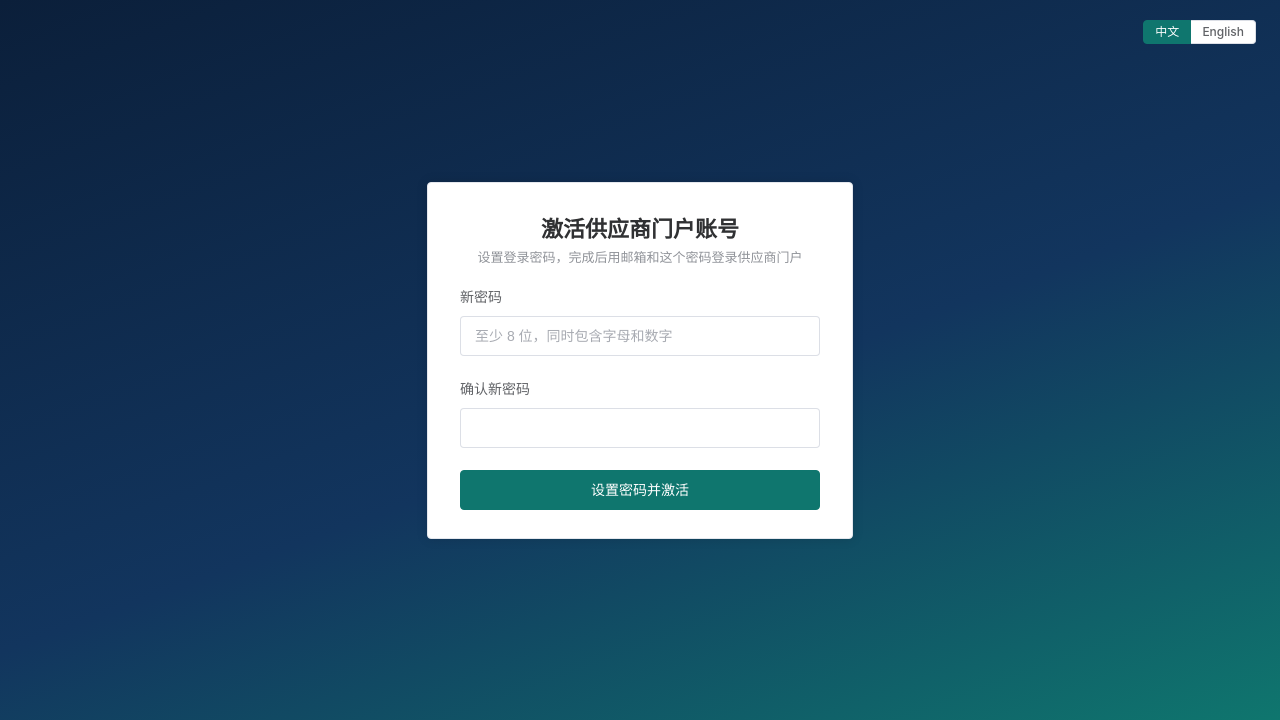
it: ActivatePage › R04-11 链接无效或过期时提示联系采购人员重新发送
Type "Portal2026" into the password field named "new-password" at {"x": 640, "y": 336}, box [475,316,805,354]
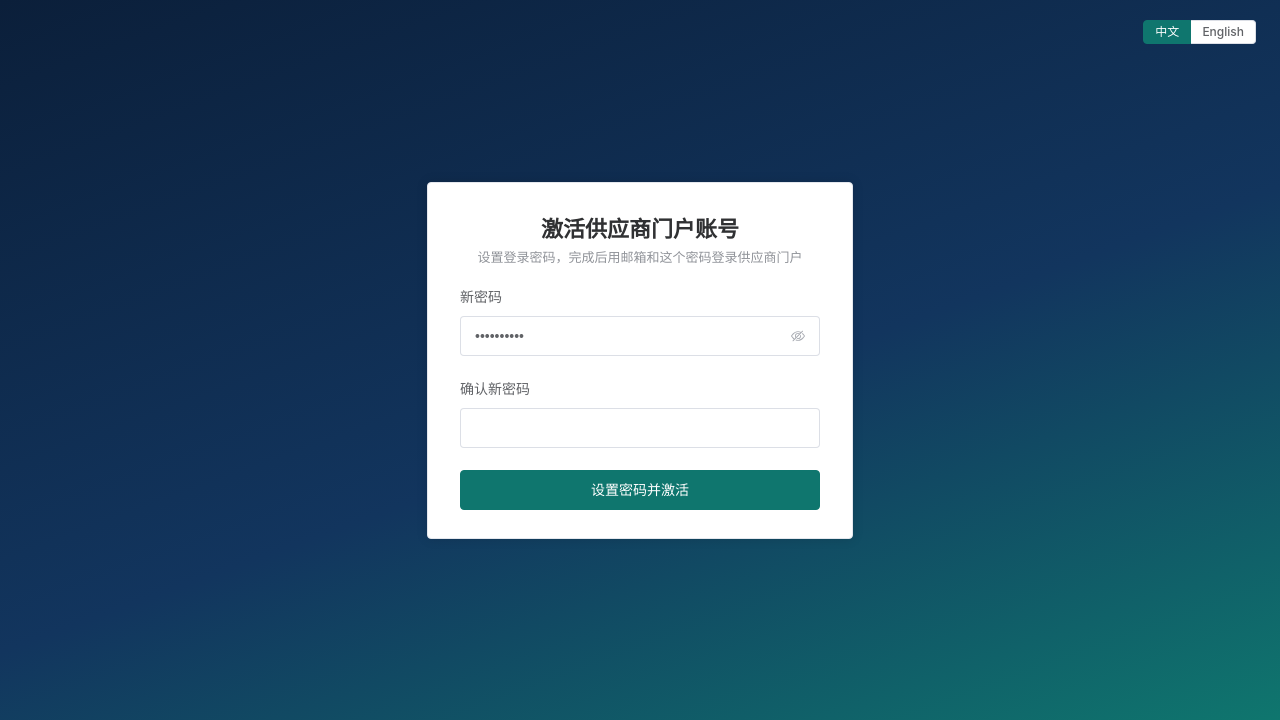
Type "Portal2026" into the password field named "confirm-password" at {"x": 640, "y": 428}, box [475,408,805,446]
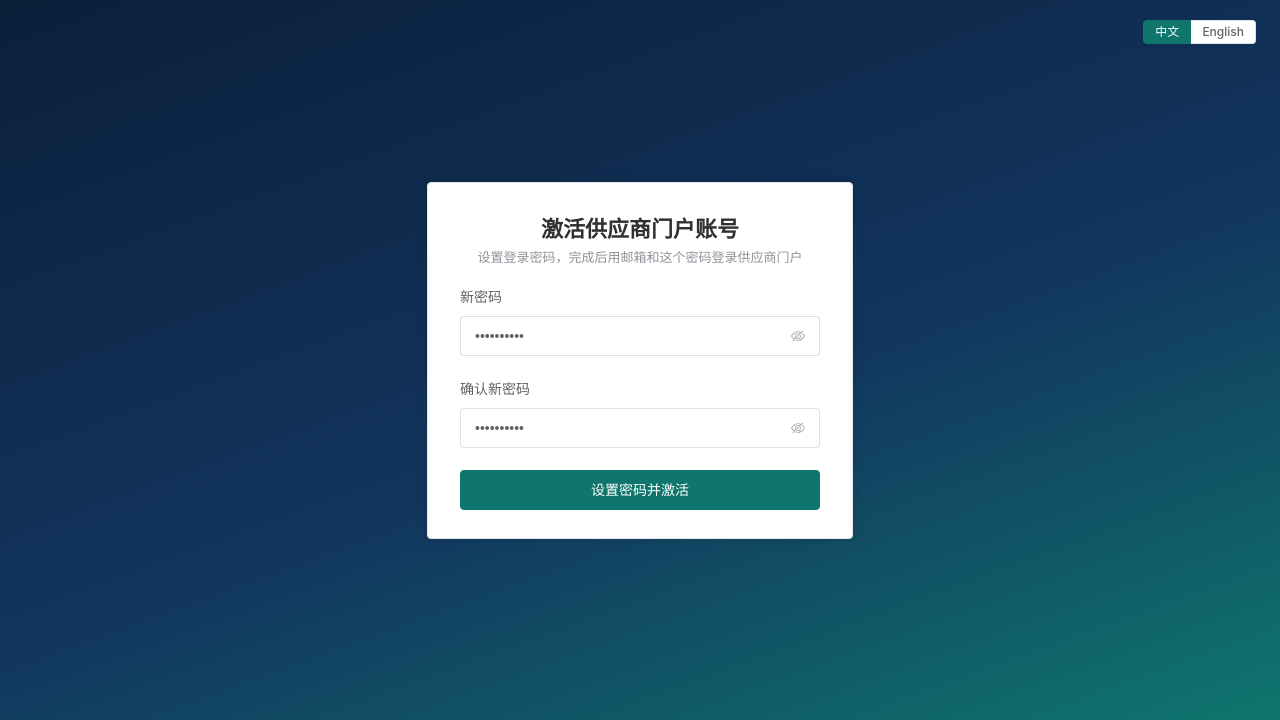
Submit the form, box [460,286,820,510]
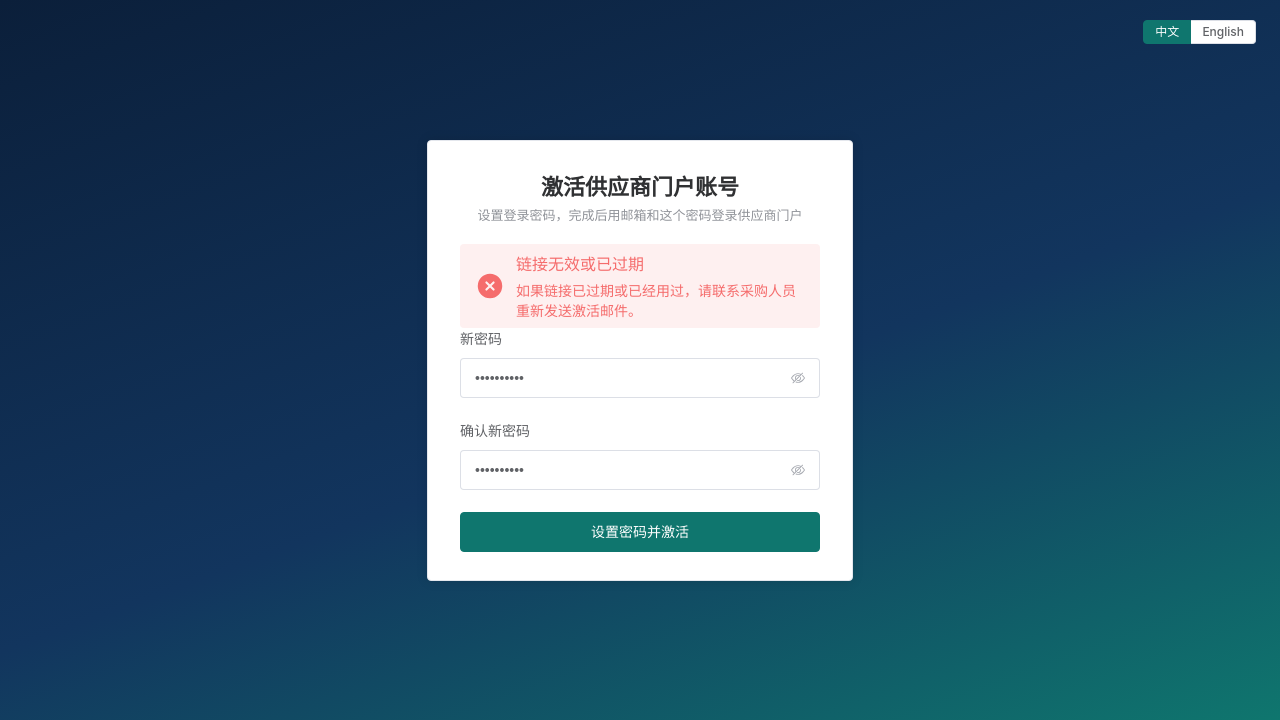
Now the text "链接无效或已过期" is shown, box [516,254,644,274]
Now the text "请联系采购人员重新发送激活邮件" is shown, box [516,282,796,318]
